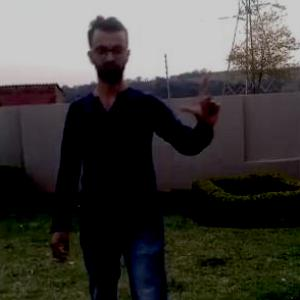land_hand: (180, 65, 226, 132)
